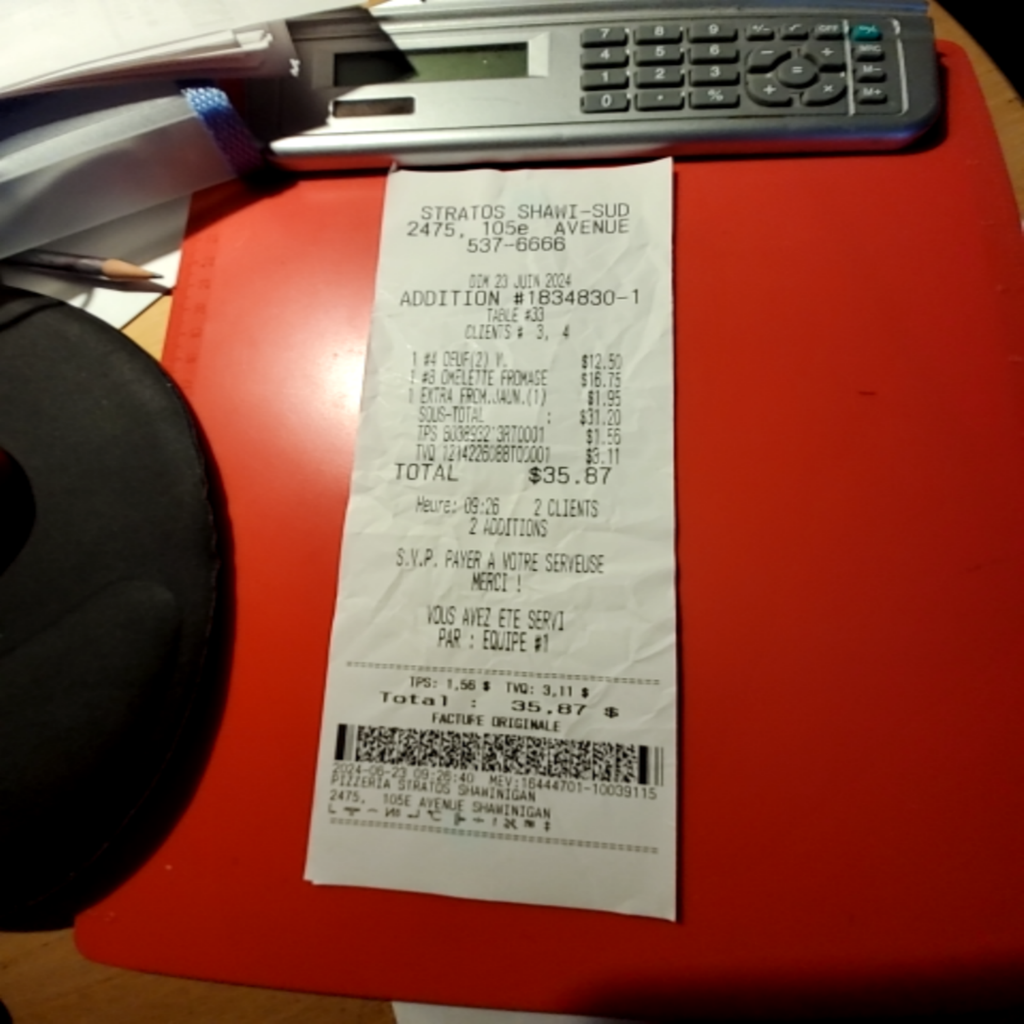recipt: (306, 155, 678, 921)
